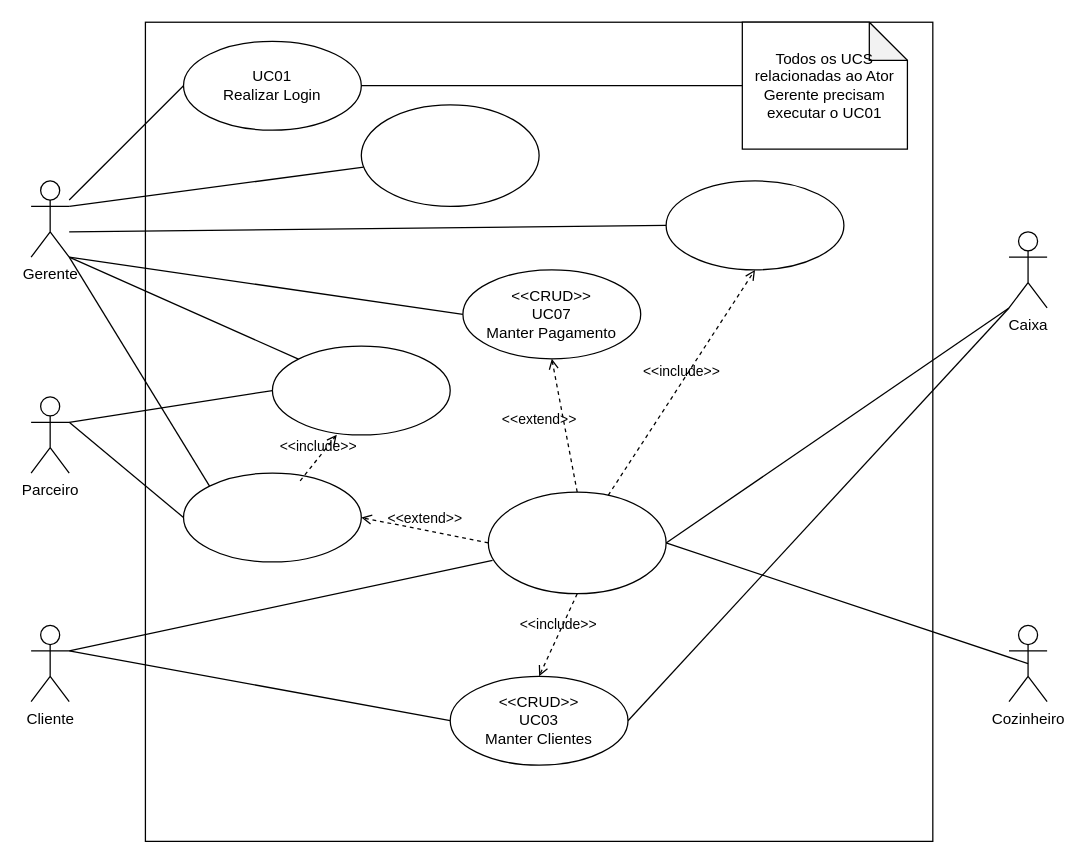
Some shapes in this 1086 by 864 pixel diagram are drawn without their labels. The centre of each missing label's shape, as x and y in pixels:
"<<CRUD>> UC02 Manter Itens" goes at pixel 754 225.
"<<CRUD>> UC05 Manter Pedidos" goes at pixel 576 542.
"<<CRUD>> UC06 Manter Cupom" goes at pixel 271 517.
"<<CRUD>> UC08 Manter Parceiro" goes at pixel 360 390.
"UC04 Gerar relatório de vendas" goes at pixel 449 155.
